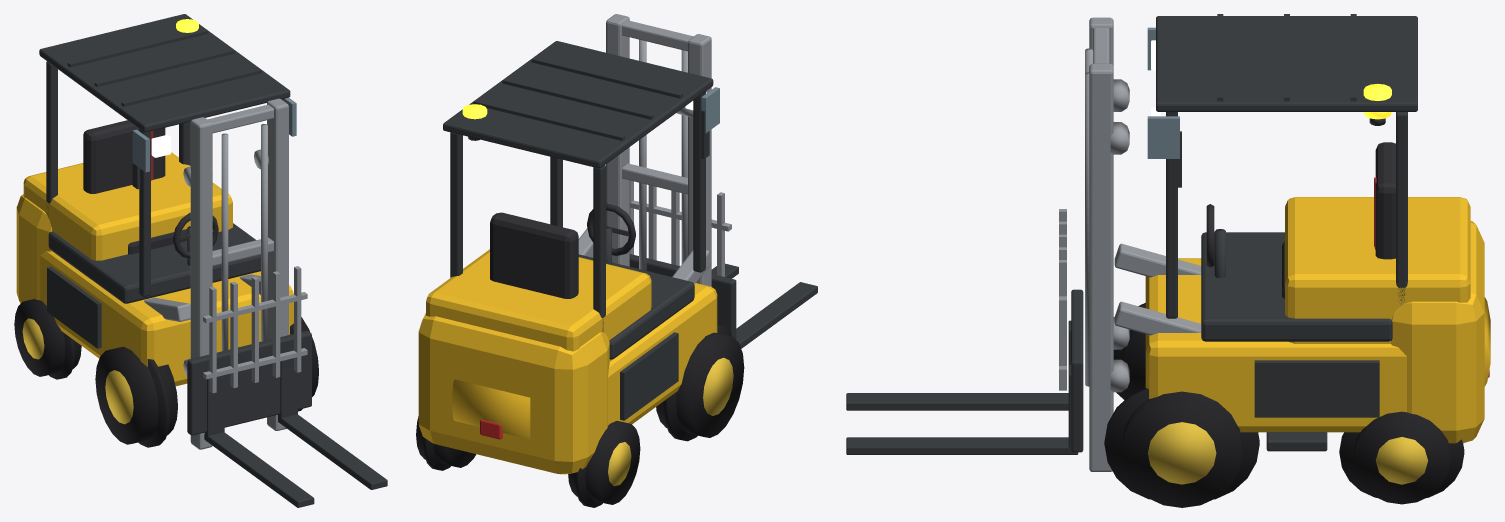
The model's file is forklift.glb.
3 renders of one model, left to right at view 1: azimuth 30°, elevation 25°; view 2: azimuth 150°, elevation 25°; view 3: azimuth 270°, elevation 25°, orthographic. The views are drawn at different scales.
Parts seen in each view (by area): view 1: Cube; view 2: Cube; view 3: Cube.
Boxes of the visible parts, <box> form: Cube: <box>14,14,387,507</box>; Cube: <box>416,14,817,507</box>; Cube: <box>846,14,1490,507</box>.
Bounding box in the file's own units: 1.25 × 2.26 × 3.2.
